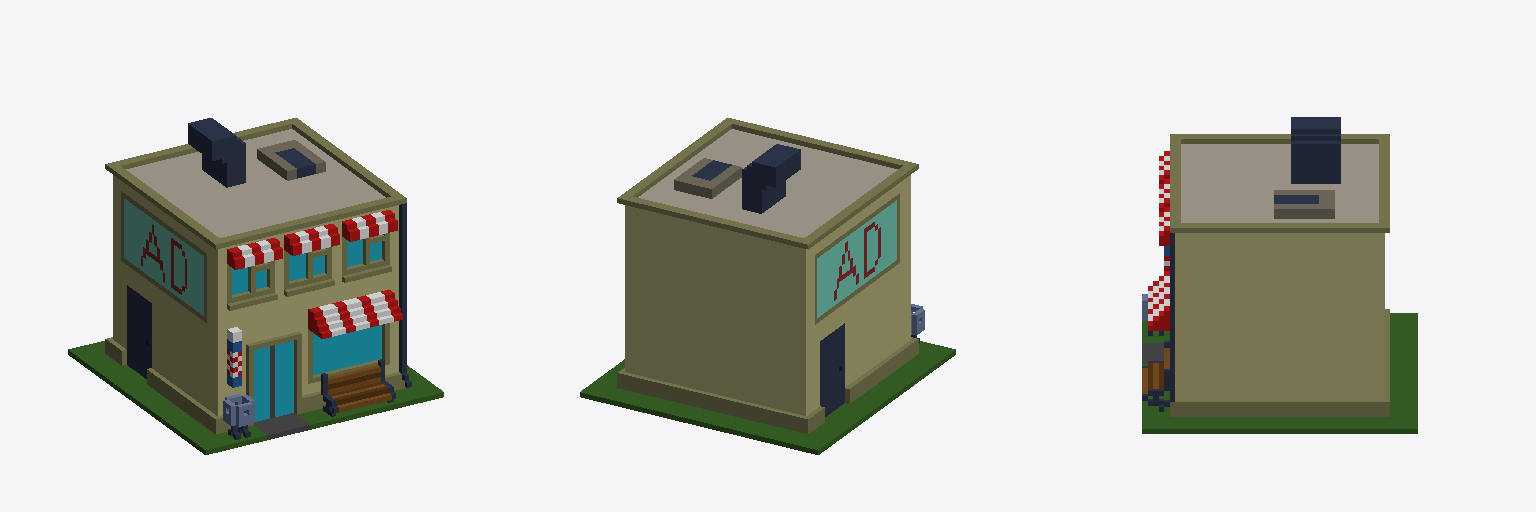
3 renders of one model, left to right at view 1: azimuth 30°, elevation 25°; view 2: azimuth 150°, elevation 25°; view 3: azimuth 270°, elevation 25°, orthographic.
Parts seen in each view (by area): view 1: object 1; view 2: object 1; view 3: object 1.
Boxes of the visible parts, box(x1,y1,x2,y2) form: object 1: box(68, 118, 443, 454); object 1: box(580, 118, 955, 454); object 1: box(1142, 117, 1417, 433).
Bounding box in the file's own units: 5 × 4.8 × 5.
Materials: 1 (1 with a texture image).